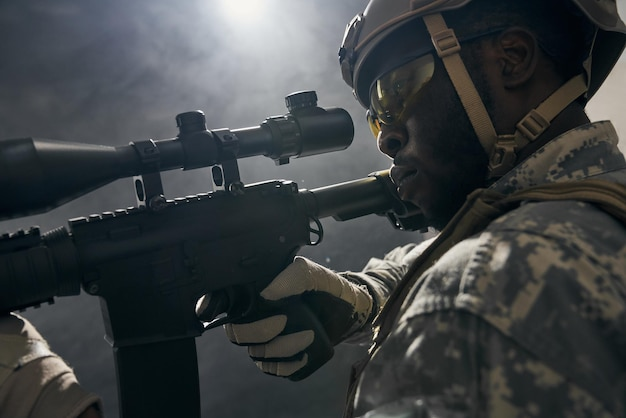gun: (2, 90, 433, 418)
